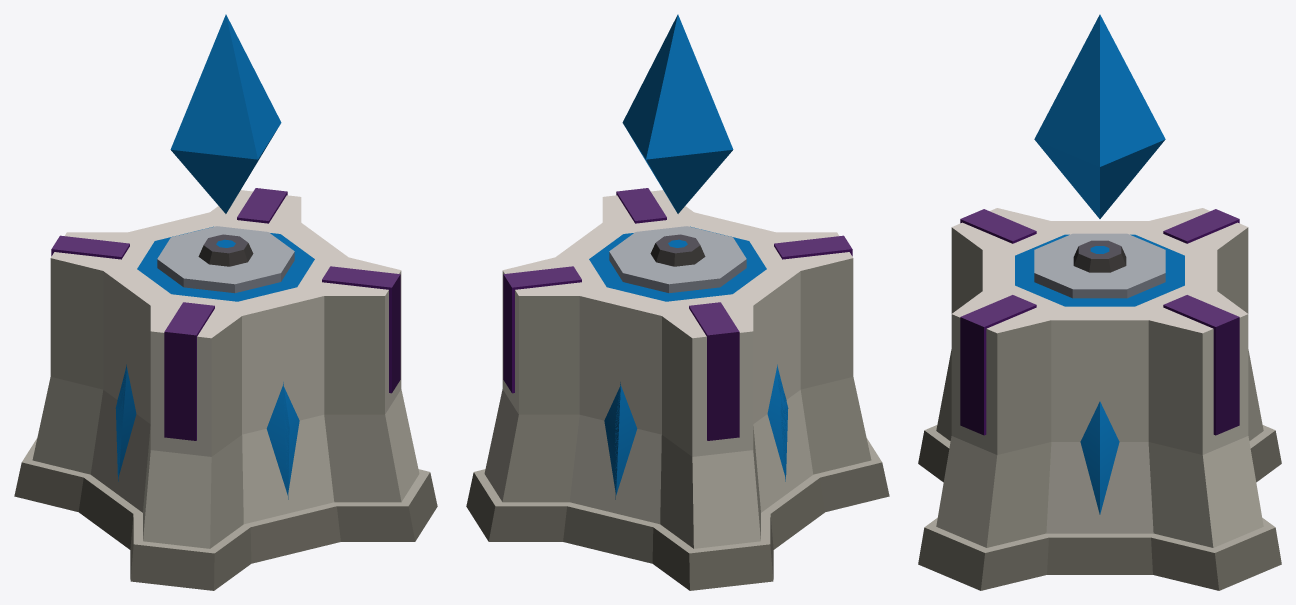
File: MageTower_Lv2.obj
The picture shows the model from 3 angles, left to right: view 1: azimuth 30°, elevation 25°; view 2: azimuth 150°, elevation 25°; view 3: azimuth 270°, elevation 25°; orthographic projection. The views are drawn at different scales.
Parts seen in each view (by area): view 1: MageTower_Lv2; view 2: MageTower_Lv2; view 3: MageTower_Lv2.
Boxes of the visible parts, box(x1,y1,x2,y2) form: MageTower_Lv2: box(14, 14, 437, 590); MageTower_Lv2: box(466, 14, 889, 590); MageTower_Lv2: box(918, 14, 1281, 590).
Size of the model in its own units: 7.48 by 11.34 by 7.48.
1 material, 1 textured.
